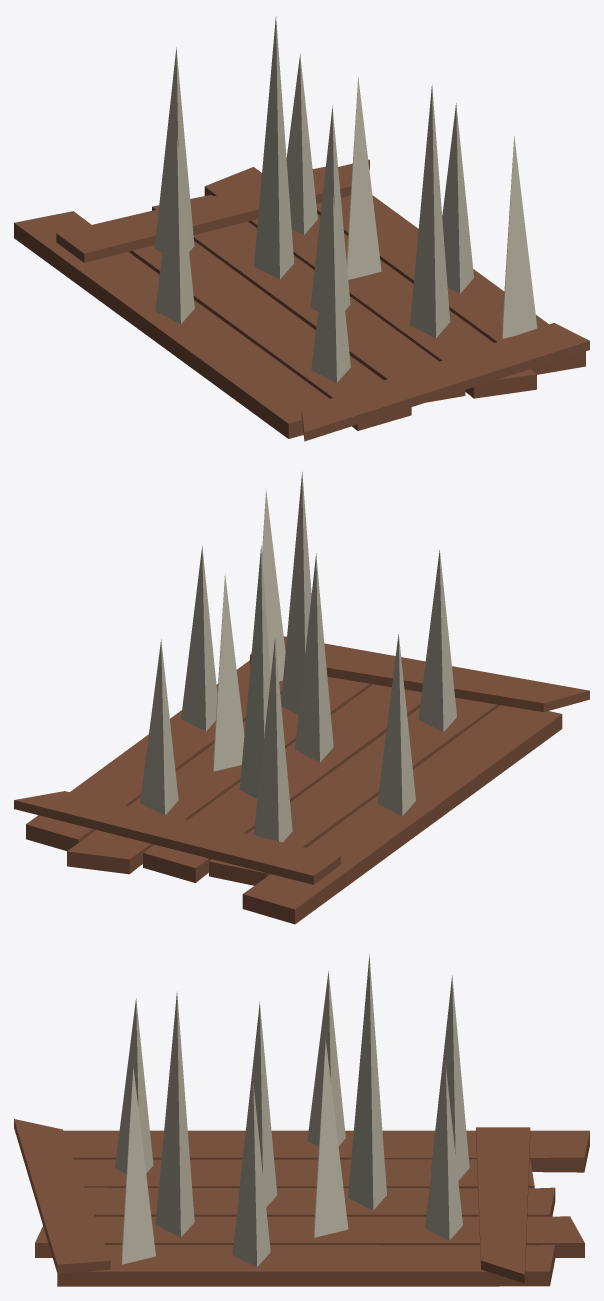
File: LPWarPack_SpikeTrapB.fbx
3 views of the same model, one above another, from view 1: azimuth 30°, elevation 25°; view 2: azimuth 150°, elevation 25°; view 3: azimuth 270°, elevation 25° (orthographic). The views are drawn at different scales.
Parts seen in each view (by area): view 1: SpikeTrapB; view 2: SpikeTrapB; view 3: SpikeTrapB.
Part boxes in pixels (x1,y1,x2,y2): SpikeTrapB: (14, 16, 589, 441); SpikeTrapB: (14, 472, 589, 924); SpikeTrapB: (14, 954, 589, 1286).
Size of the model in its own units: 117 by 91.89 by 183.
